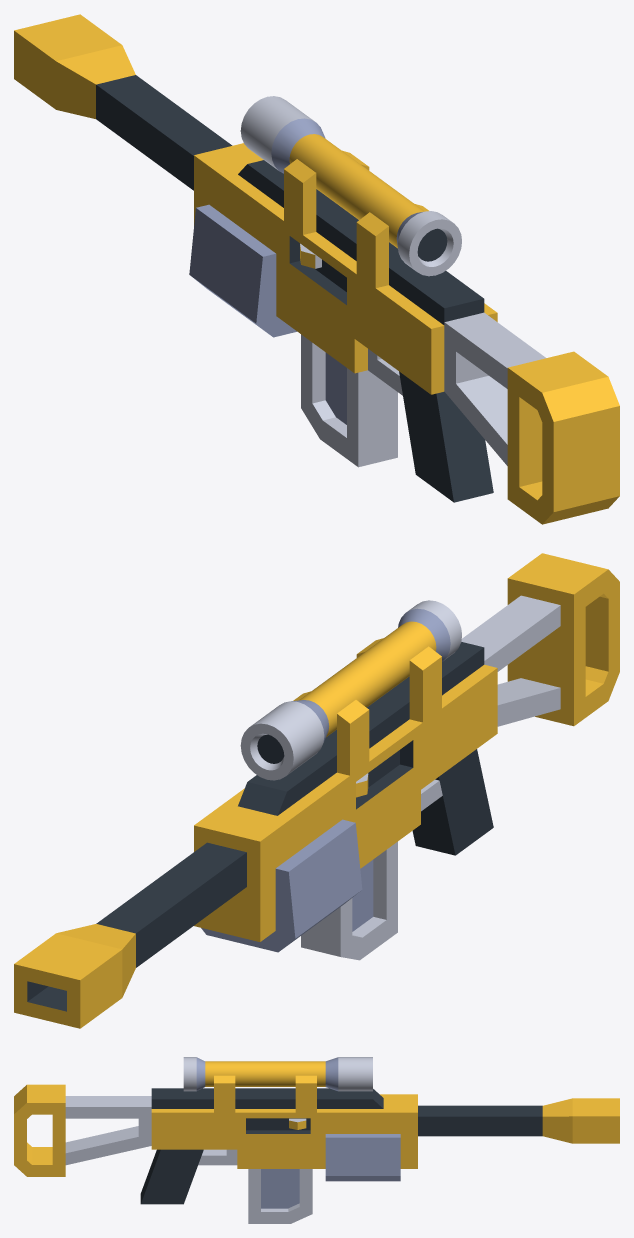
The model's file is blasterE.obj.
The picture shows the model from 3 angles, top to bottom: view 1: azimuth 30°, elevation 25°; view 2: azimuth 150°, elevation 25°; view 3: azimuth 270°, elevation 25°; orthographic projection. The views are drawn at different scales.
Visible parts, largest first — view 1: blasterE; view 2: blasterE; view 3: blasterE.
Boxes of the visible parts, box(x1,y1,x2,y2) form: blasterE: box(14, 14, 619, 524); blasterE: box(14, 553, 619, 1028); blasterE: box(14, 1057, 619, 1223).
Bounding box in the file's own units: 0.16 × 0.41 × 1.41.
